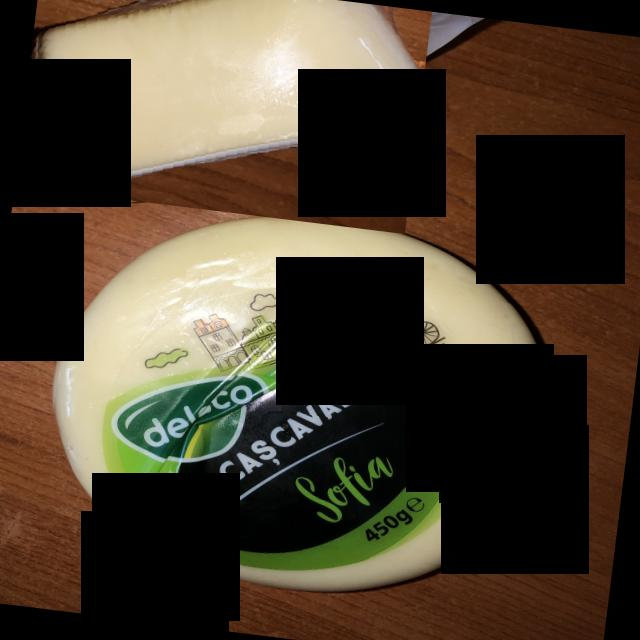cheese: (33, 182, 573, 618), (14, 0, 431, 233)
